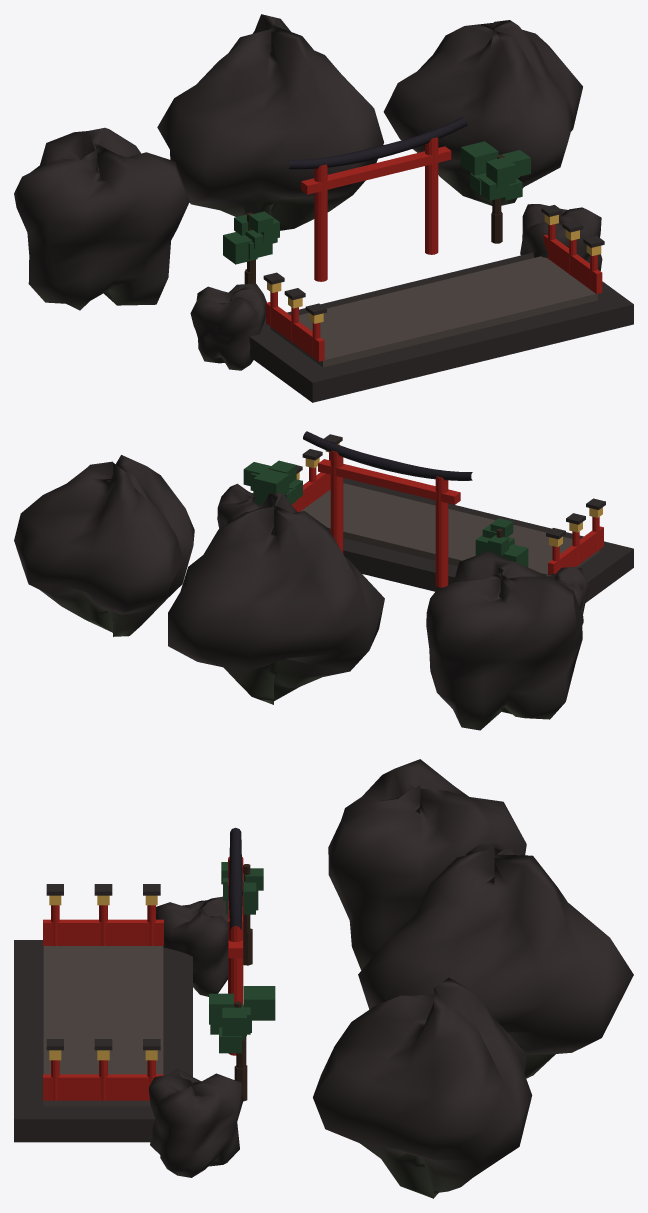
Rendered from dragons_nest.glb.
3 renders of one model, top to bottom at view 1: azimuth 30°, elevation 25°; view 2: azimuth 150°, elevation 25°; view 3: azimuth 270°, elevation 25°, orthographic. The views are drawn at different scales.
Parts seen in each view (by area): view 1: mesh 1, mesh 0; view 2: mesh 1, mesh 0; view 3: mesh 1, mesh 0.
Part boxes in pixels (box(x1,y1,x2,y2)): mesh 1: box(14, 14, 633, 402); mesh 0: box(270, 256, 597, 367); mesh 1: box(14, 431, 633, 730); mesh 0: box(300, 483, 599, 574); mesh 1: box(14, 759, 633, 1198); mesh 0: box(43, 946, 163, 1106).
Size of the model in its own units: 27.44 by 9.85 by 22.51.
